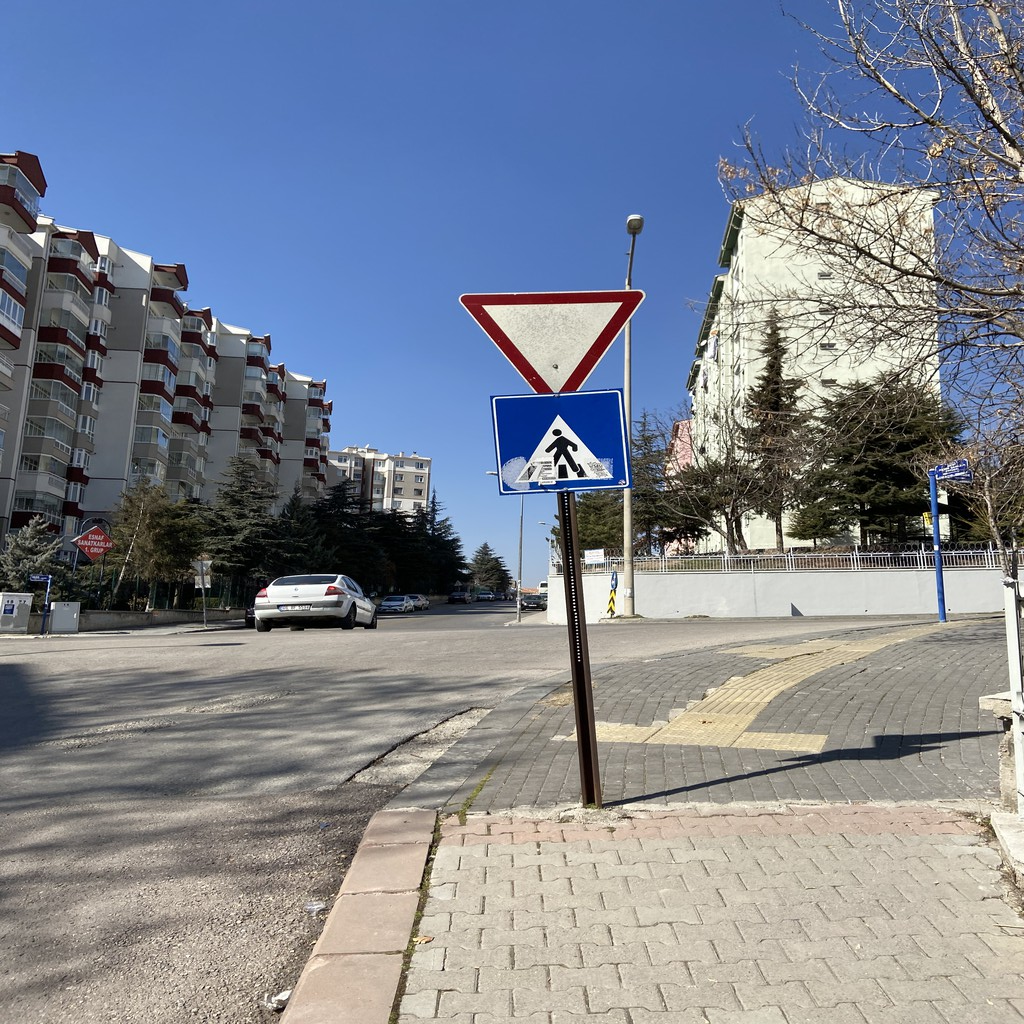Yaya Gecidi: (499, 396, 638, 491)
Yol Ver: (469, 281, 655, 396)
